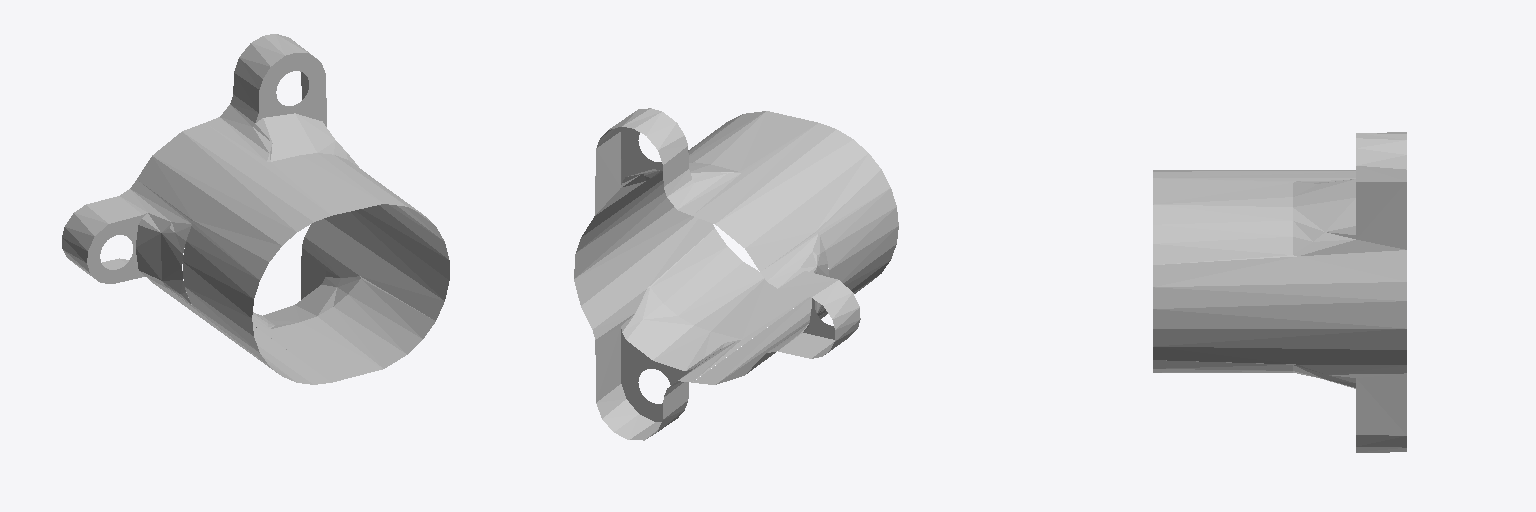
File: motor_support_dl.obj
The picture shows the model from 3 angles: view 1: azimuth 30°, elevation 25°; view 2: azimuth 150°, elevation 25°; view 3: azimuth 270°, elevation 25°; orthographic projection.
Size of the model in its own units: 0.0475 by 0.0543 by 0.04.